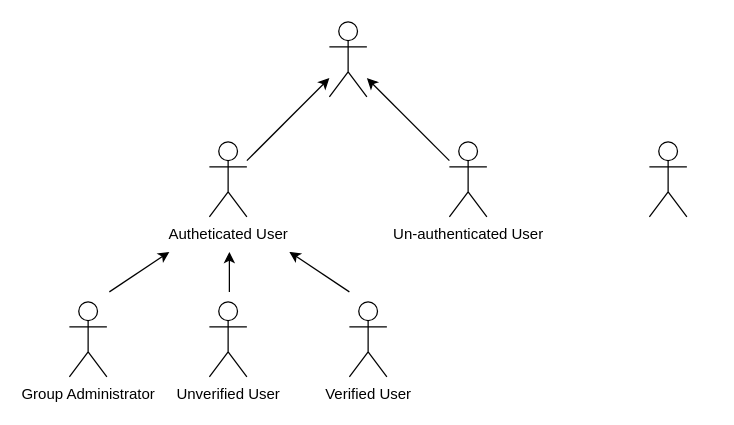
This 734x425 diagram has some shape labels left out. Here are the shapes that lost their labels. From the top down, the centre of each, then its label:
the point at 347,59: User
the point at 667,179: Administrator
